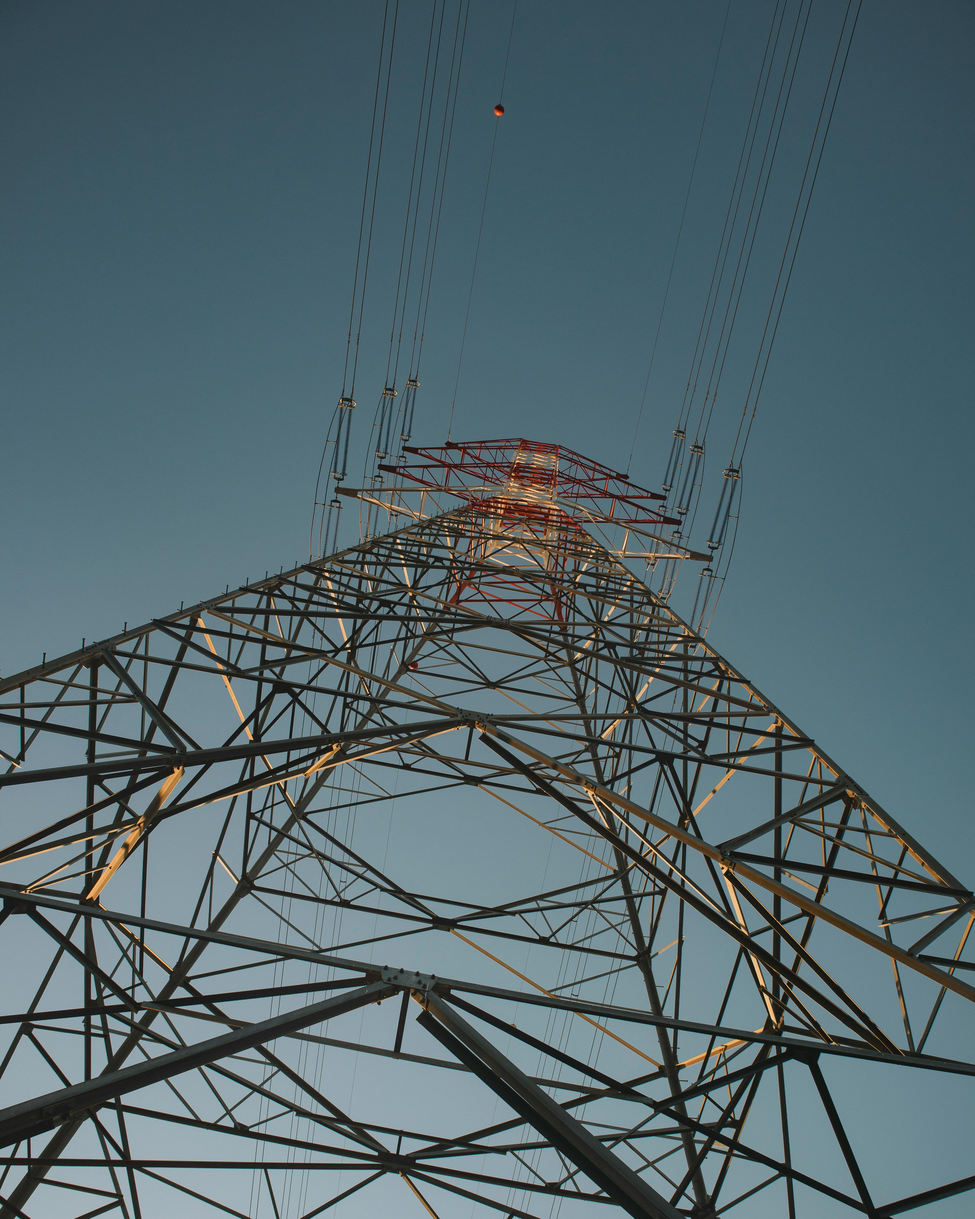insulator: (706, 468, 745, 548), (672, 449, 712, 526), (328, 393, 356, 486), (395, 374, 425, 452), (657, 427, 690, 495), (375, 389, 391, 466)
